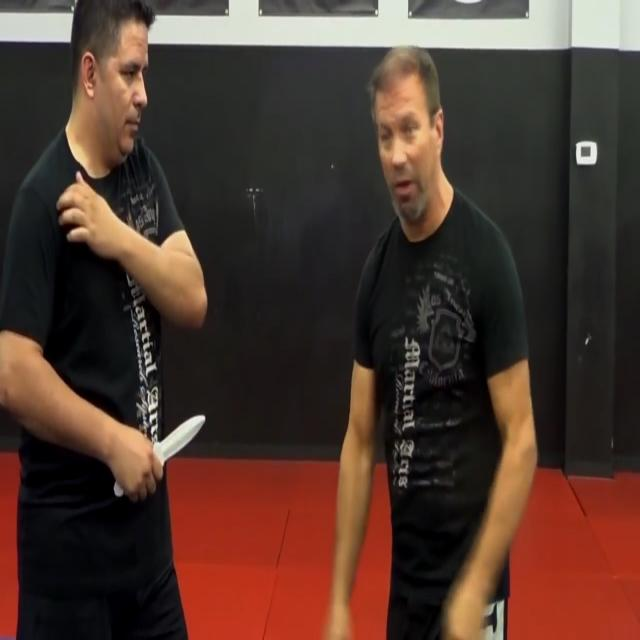knife: (147, 408, 213, 491)
